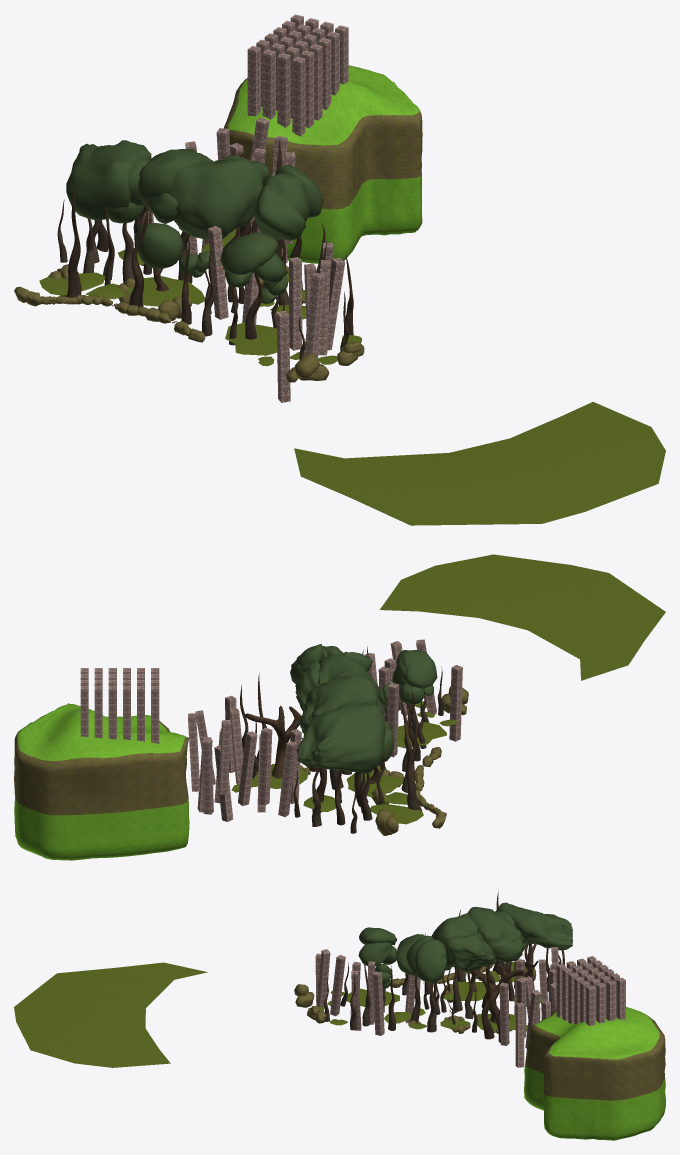
The model's file is SWAMP_LANDS_MERGED.glb.
3 renders of one model, top to bottom at view 1: azimuth 30°, elevation 25°; view 2: azimuth 150°, elevation 25°; view 3: azimuth 270°, elevation 25°, orthographic. The views are drawn at different scales.
Parts seen in each view (by area): view 1: BOG_TERRAIN-COl.014, SWAMP_LEAVES, HIDDEN_VALLEY_PLATFORM-COL, ANCIENT_TOTEM-PILAR-COL, swamp_mud_blocks-col, ANCIENT_TOTEM-PILAR-COL.005, ANCIENT_TOTEM-PILAR-COL.003, BOG_TERRAIN-COl.002, BOG_TERRAIN-COl.001, ANCIENT_TOTEM-PILAR-COL.001, ANCIENT_TOTEM-PILAR-COL.002, ANCIENT_TOTEM-PILAR-COL.009 (+4 smaller); view 2: HIDDEN_VALLEY_PLATFORM-COL, BOG_TERRAIN-COl.014, SWAMP_LEAVES, ANCIENT_TOTEM-PILAR-COL, swamp_mud_blocks-col, SWAMP_SMALL_TREE-COL.003, ANCIENT_TOTEM-PILAR-COL.010, ANCIENT_TOTEM-PILAR-COL.012, ANCIENT_TOTEM-PILAR-COL.001, ANCIENT_TOTEM-PILAR-COL.018, ANCIENT_TOTEM-PILAR-COL.024, ANCIENT_TOTEM-PILAR-COL.013 (+9 smaller); view 3: HIDDEN_VALLEY_PLATFORM-COL, BOG_TERRAIN-COl.014, SWAMP_LEAVES, ANCIENT_TOTEM-PILAR-COL, swamp_mud_blocks-col, SWAMP_SMALL_TREE-COL.003, ANCIENT_TOTEM-PILAR-COL.016, ANCIENT_TOTEM-PILAR-COL.029, ANCIENT_TOTEM-PILAR-COL.021, ANCIENT_TOTEM-PILAR-COL.007, ANCIENT_TOTEM-PILAR-COL.002, BOG_TERRAIN-COl.001 (+3 smaller).
Boxes of the visible parts, left/top/right/bottom form: BOG_TERRAIN-COl.014: left=294, top=402, right=665, bottom=525; SWAMP_LEAVES: left=66, top=140, right=323, bottom=303; HIDDEN_VALLEY_PLATFORM-COL: left=224, top=65, right=422, bottom=263; ANCIENT_TOTEM-PILAR-COL: left=247, top=14, right=348, bottom=136; swamp_mud_blocks-col: left=14, top=264, right=364, bottom=382; ANCIENT_TOTEM-PILAR-COL.005: left=289, top=257, right=302, bottom=350; ANCIENT_TOTEM-PILAR-COL.003: left=208, top=226, right=228, bottom=319; BOG_TERRAIN-COl.002: left=225, top=323, right=277, bottom=355; BOG_TERRAIN-COl.001: left=127, top=276, right=205, bottom=306; ANCIENT_TOTEM-PILAR-COL.001: left=276, top=310, right=290, bottom=402; ANCIENT_TOTEM-PILAR-COL.002: left=304, top=273, right=324, bottom=355; ANCIENT_TOTEM-PILAR-COL.009: left=327, top=258, right=345, bottom=350; HIDDEN_VALLEY_PLATFORM-COL: left=14, top=703, right=189, bottom=860; BOG_TERRAIN-COl.014: left=380, top=554, right=665, bottom=680; SWAMP_LEAVES: left=290, top=644, right=437, bottom=773; ANCIENT_TOTEM-PILAR-COL: left=80, top=668, right=159, bottom=743; swamp_mud_blocks-col: left=254, top=686, right=468, bottom=835; SWAMP_SMALL_TREE-COL.003: left=245, top=705, right=301, bottom=778; ANCIENT_TOTEM-PILAR-COL.010: left=258, top=727, right=272, bottom=805; ANCIENT_TOTEM-PILAR-COL.012: left=238, top=731, right=257, bottom=805; ANCIENT_TOTEM-PILAR-COL.001: left=449, top=665, right=462, bottom=741; ANCIENT_TOTEM-PILAR-COL.018: left=278, top=741, right=296, bottom=817; ANCIENT_TOTEM-PILAR-COL.024: left=201, top=738, right=213, bottom=814; ANCIENT_TOTEM-PILAR-COL.013: left=218, top=720, right=231, bottom=794; HIDDEN_VALLEY_PLATFORM-COL: left=524, top=1007, right=665, bottom=1140; BOG_TERRAIN-COl.014: left=14, top=962, right=207, bottom=1067; SWAMP_LEAVES: left=358, top=902, right=572, bottom=988; ANCIENT_TOTEM-PILAR-COL: left=556, top=956, right=625, bottom=1026; swamp_mud_blocks-col: left=294, top=952, right=536, bottom=1033; SWAMP_SMALL_TREE-COL.003: left=474, top=964, right=525, bottom=1023; ANCIENT_TOTEM-PILAR-COL.016: left=515, top=1002, right=524, bottom=1067; ANCIENT_TOTEM-PILAR-COL.029: left=372, top=971, right=384, bottom=1035; ANCIENT_TOTEM-PILAR-COL.021: left=499, top=982, right=509, bottom=1045; ANCIENT_TOTEM-PILAR-COL.007: left=330, top=954, right=345, bottom=1016; ANCIENT_TOTEM-PILAR-COL.002: left=317, top=949, right=330, bottom=1008; BOG_TERRAIN-COl.001: left=443, top=982, right=486, bottom=1000.
Size of the model in its own units: 3349 by 1414 by 6184.
Materials: 6 (5 with a texture image).
